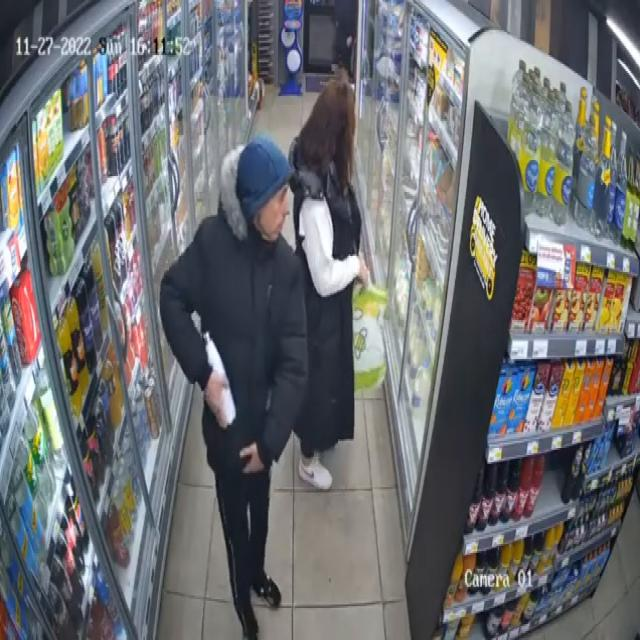article: (204, 332, 234, 427)
bags: (353, 284, 386, 389)
hands: (203, 373, 226, 416), (241, 443, 263, 471)
person: (160, 137, 307, 638), (290, 76, 368, 489)
